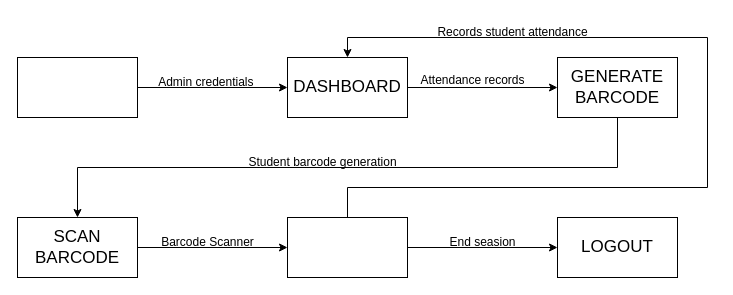
This 733x295 diagram has some shape labels left out. The shapes that lost their labels are listed below. From the top down, each one's centre as x and y in pixels, then its label:
point (77, 87): LOGIN
point (347, 247): RECORD ATTENDANCE
